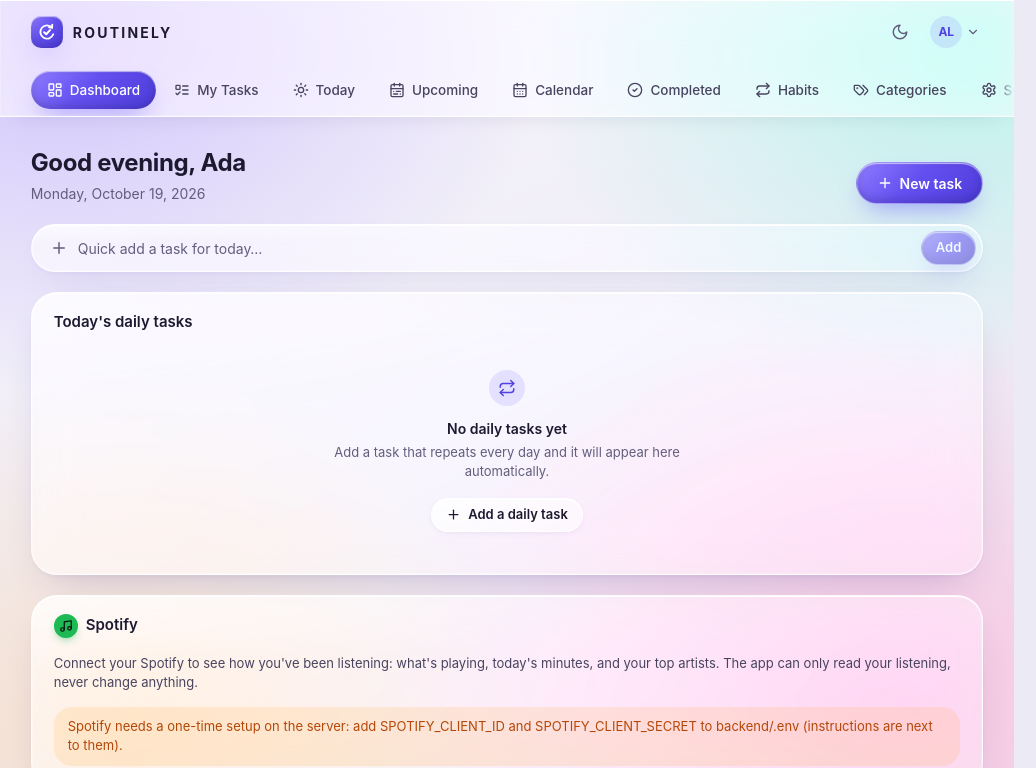
Test: navigation and layout › shows every page in the header navigation and navigates between them
Expected: the header named "Main navigation" is shown, top-left (0, 0), bottom-right (1014, 117)
Expected: the link "Dashboard" is shown, top-left (47, 82), bottom-right (140, 98)
Click the link "Today".
click(324, 90)  # box top-left (292, 82), bottom-right (355, 98)
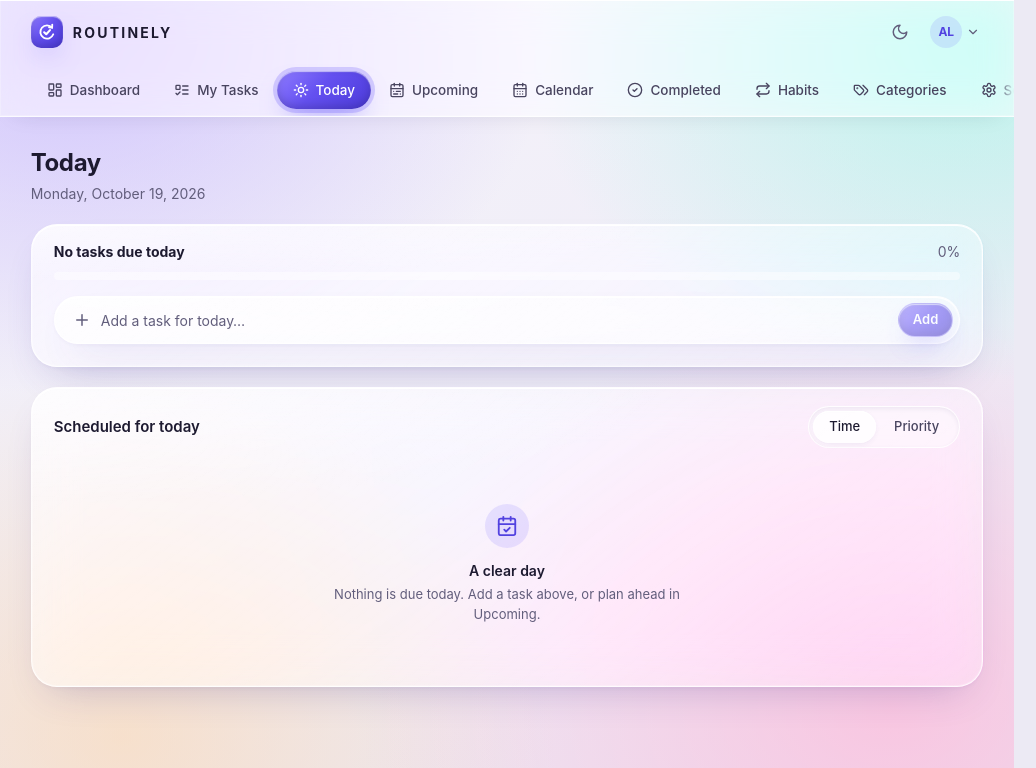
Expected: the heading "Today" is shown, top-left (31, 148), bottom-right (101, 177)
Click the link "Habits".
click(787, 90)  # box top-left (755, 82), bottom-right (819, 98)
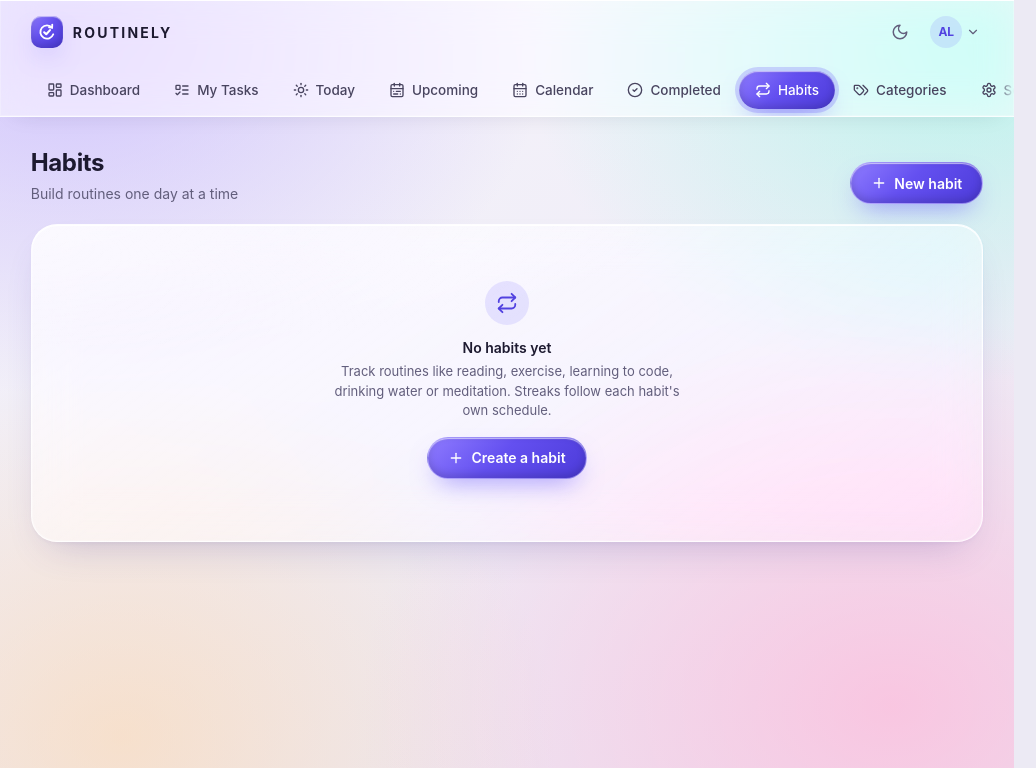
Expected: the heading "Habits" is shown, top-left (31, 148), bottom-right (104, 177)
